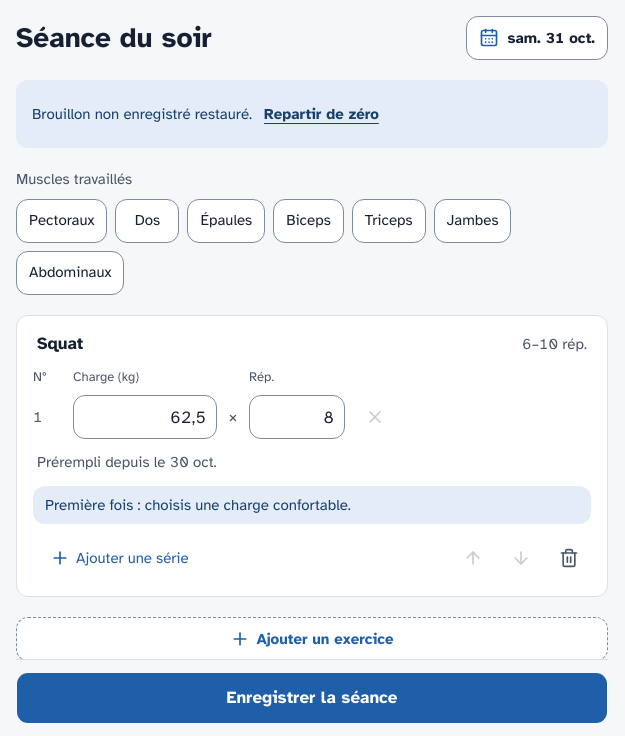
it: WorkoutEditor › sur une panne réseau à l'enregistrement : message « Enregistrement impossible. Réessaie. », brouillon conservé, bouton réactivé
Expected: the element "Squat" is shown, [16, 314, 608, 597]
Click the button "Enregistrer la séance": (312, 698) [16, 672, 608, 724]
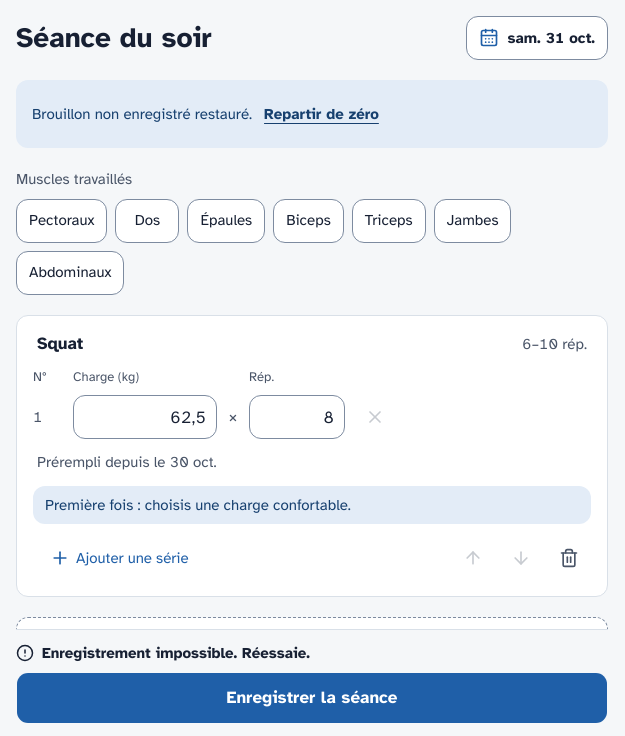
Now the text "Enregistrement impossible. Réessaie." is shown, box [16, 644, 310, 662]
